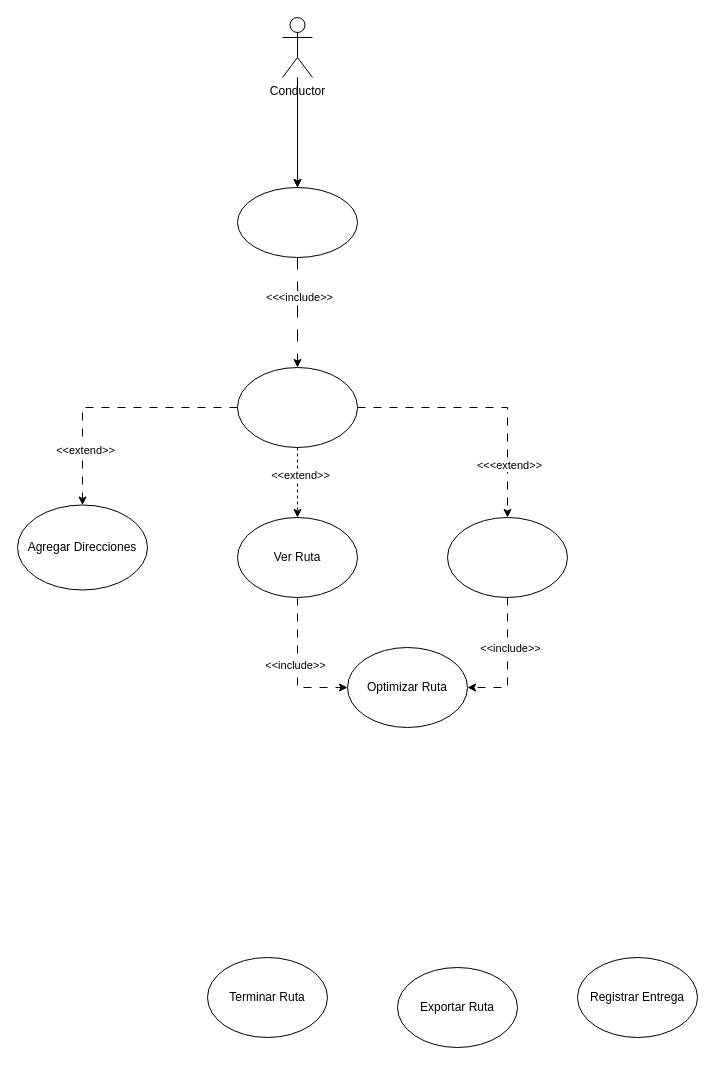
Image size: 715x1065. Some labels were removed from this diagram. Here are the shapes that lost their labels. From the top down, the centre of each, then its label:
the point at 297,222: Iniciar Sesión
the point at 297,407: Crear Ruta
the point at 507,557: Comenzar Ruta
